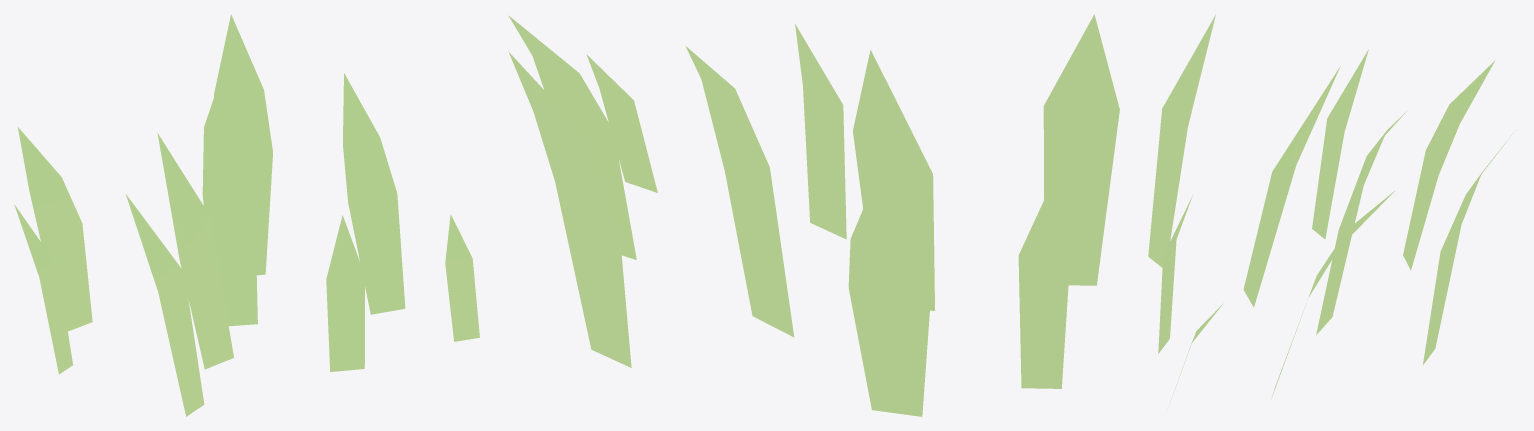
Rendered from grass_blade.glb.
3 renders of one model, left to right at view 1: azimuth 30°, elevation 25°; view 2: azimuth 150°, elevation 25°; view 3: azimuth 270°, elevation 25°, orthographic. The views are drawn at different scales.
Parts seen in each view (by area): view 1: x46_grass_001a; view 2: x46_grass_001a; view 3: x46_grass_001a.
Boxes of the visible parts, x1,y1,x2,y2 form: x46_grass_001a: (14,14,479,416); x46_grass_001a: (508,14,1119,416); x46_grass_001a: (1148,14,1515,405).
Size of the model in its own units: 7.59 by 4.34 by 5.94.
